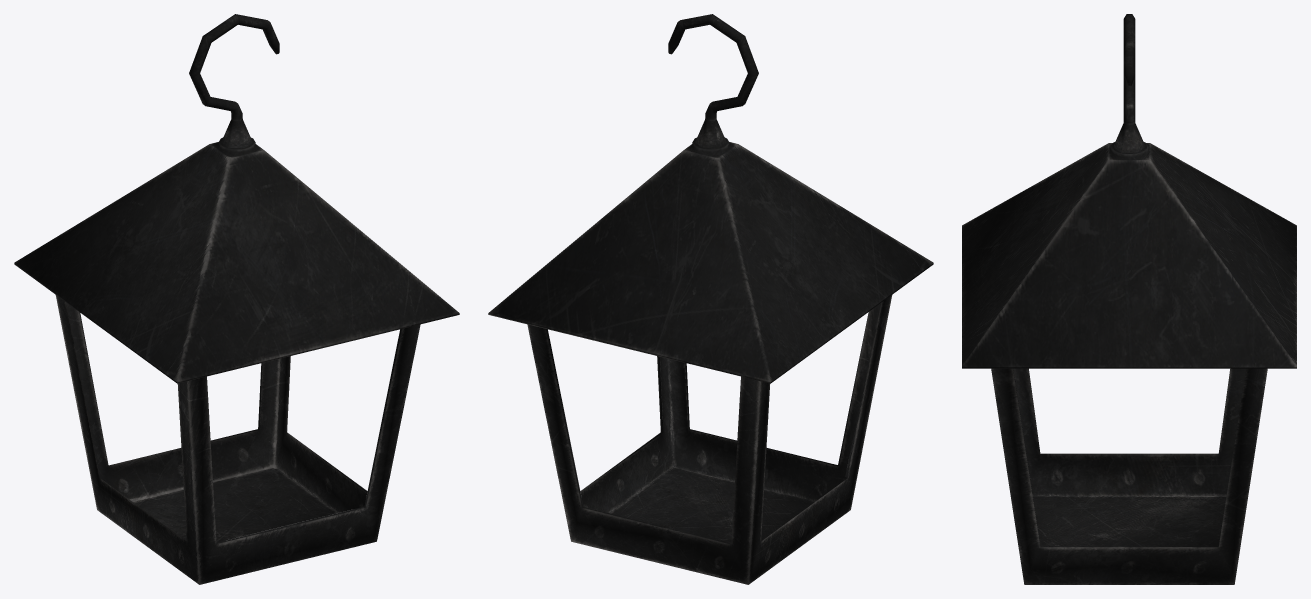
The model's file is Lamp.glb.
The picture shows the model from 3 angles, left to right: view 1: azimuth 30°, elevation 25°; view 2: azimuth 150°, elevation 25°; view 3: azimuth 270°, elevation 25°; orthographic projection. The views are drawn at different scales.
Parts seen in each view (by area): view 1: lantern; view 2: lantern; view 3: lantern.
Part boxes in pixels (x1,y1,x2,y2): lantern: [14, 14, 459, 584]; lantern: [488, 14, 933, 584]; lantern: [962, 14, 1296, 584].
Bounding box in the file's own units: 19.99 × 34.58 × 19.99.
Materials: 1 (1 with a texture image).
